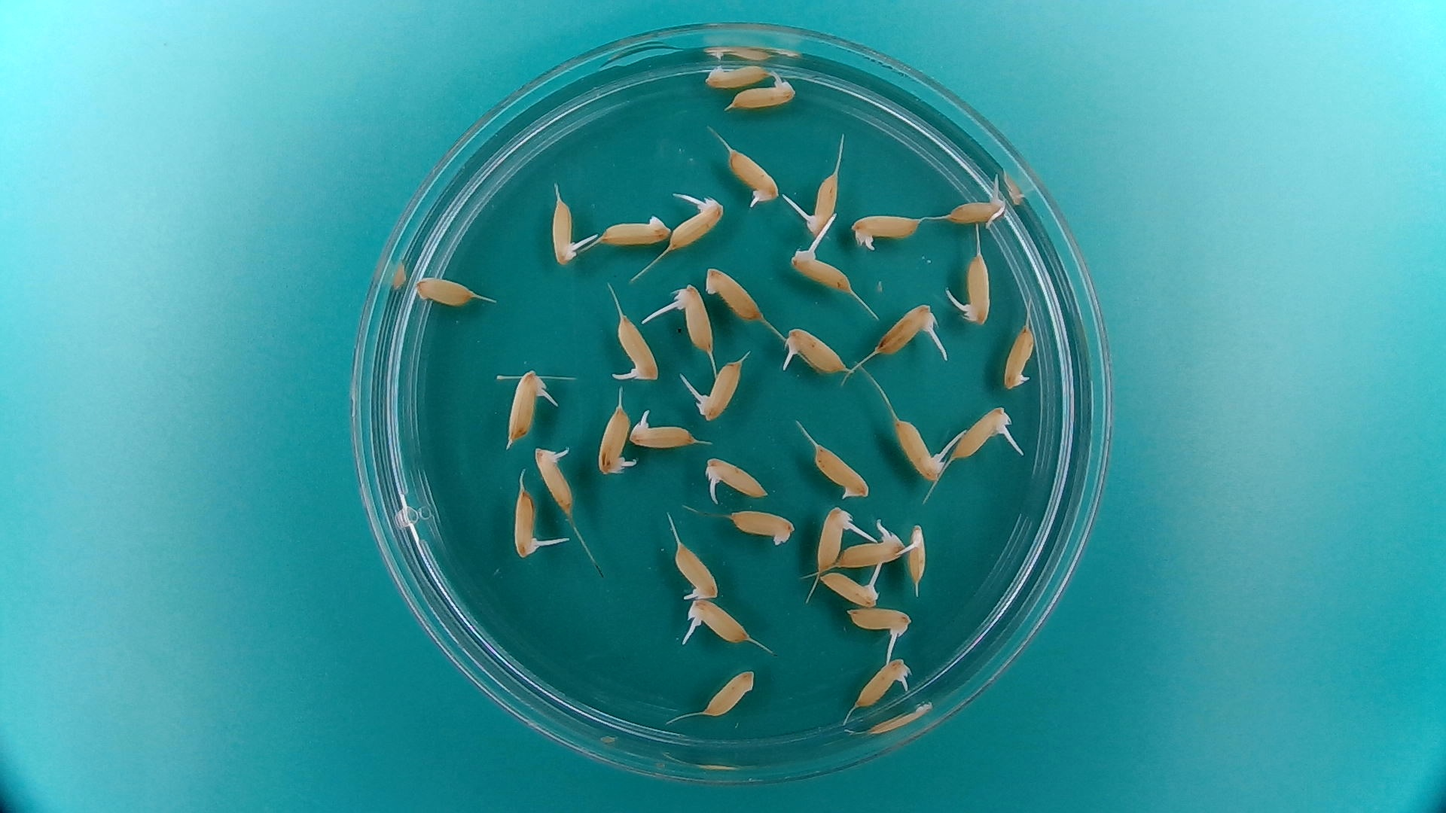no: (810, 441, 872, 501), (703, 267, 765, 323), (596, 209, 674, 248), (702, 667, 758, 718), (728, 510, 797, 547), (700, 59, 773, 90), (411, 279, 476, 308)
yes: (874, 300, 945, 360), (778, 323, 850, 377), (787, 240, 854, 294), (609, 316, 661, 384), (950, 405, 1013, 461), (532, 440, 578, 516), (508, 362, 548, 448), (727, 144, 782, 206), (701, 452, 771, 500), (665, 199, 728, 251), (893, 419, 944, 483), (594, 401, 636, 477), (685, 598, 752, 645), (813, 504, 856, 577), (851, 658, 910, 711), (673, 535, 721, 598), (671, 287, 715, 355), (956, 249, 994, 327), (700, 360, 746, 421), (848, 212, 923, 248), (1001, 321, 1038, 393), (510, 479, 542, 559), (803, 169, 843, 233), (627, 416, 697, 451), (819, 570, 882, 608), (834, 534, 900, 568), (731, 80, 797, 113), (847, 605, 913, 637), (944, 197, 1007, 226), (549, 200, 576, 266), (905, 521, 929, 592)
